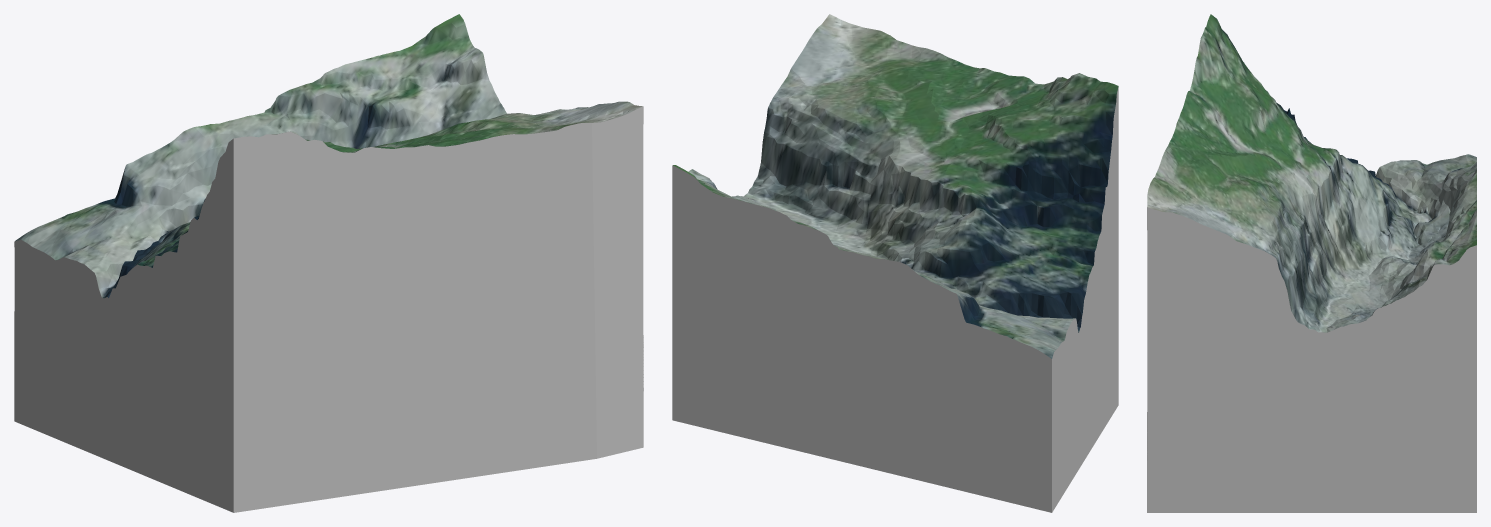
File: GrindScene10.gltf
The picture shows the model from 3 angles, left to right: view 1: azimuth 30°, elevation 25°; view 2: azimuth 150°, elevation 25°; view 3: azimuth 270°, elevation 25°; orthographic projection. The views are drawn at different scales.
Visible parts, largest first — view 1: Plane; view 2: Plane; view 3: Plane.
Part boxes in pixels (x1=…): Plane: x1=14, y1=14, x2=643, y2=512; Plane: x1=672, y1=14, x2=1118, y2=512; Plane: x1=1147, y1=14, x2=1476, y2=512.
Bounding box in the file's own units: 0.5305 × 0.427 × 0.3802.
Materials: 2 (1 with a texture image).
